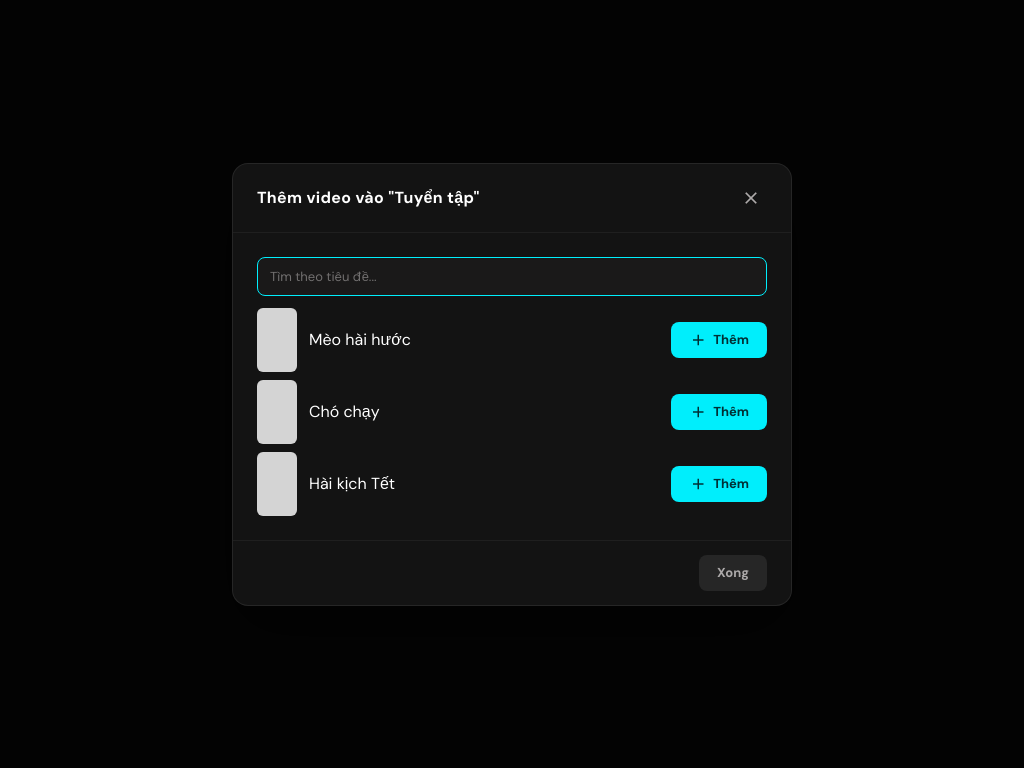
Test case: AddVideosModal › shows the API error and keeps the video un-added
Click the button named "Thêm \"Chó chạy\"": {"x": 719, "y": 412} [671,394,767,430]
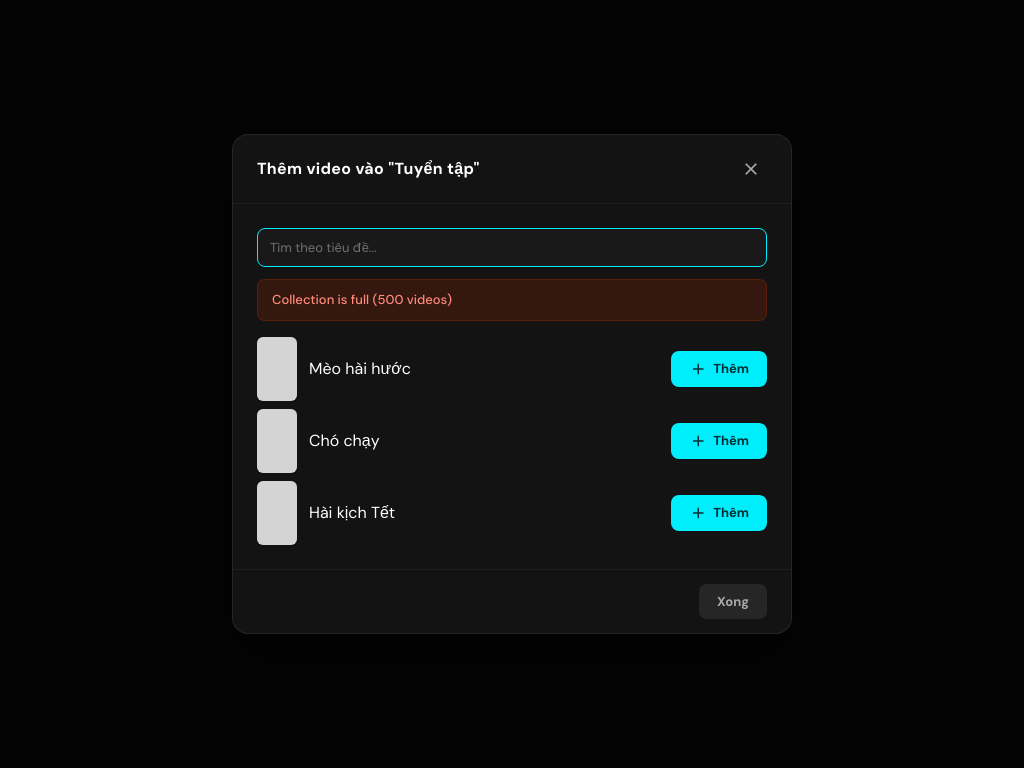
Expected: the button named "Thêm \"Chó chạy\"" is shown, [671,423,767,458]
Expected: the message shows "Collection is full", [272,291,452,308]
